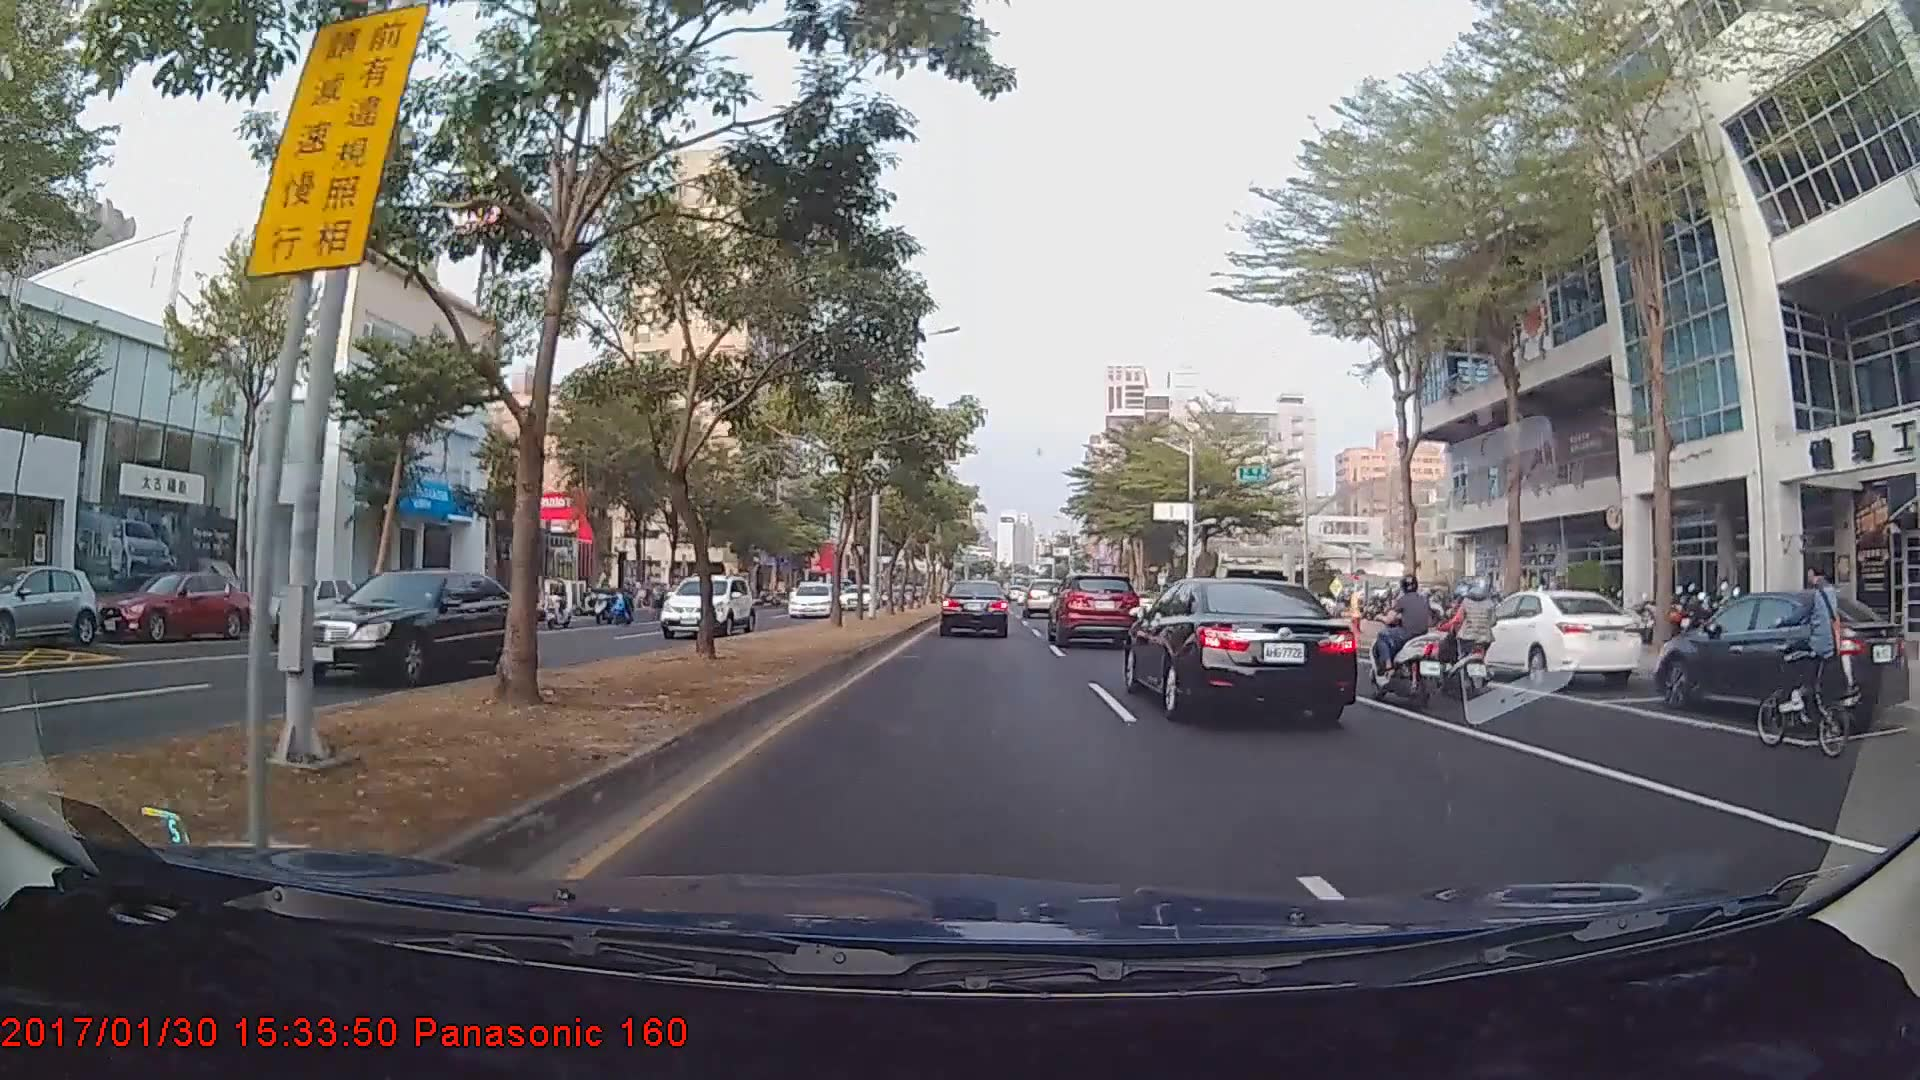rider: (1746, 566, 1871, 763), (1372, 572, 1459, 717), (1437, 578, 1504, 697), (265, 572, 323, 643)
vehicle: (1654, 587, 1909, 735), (1127, 571, 1357, 724), (283, 567, 536, 689), (1475, 585, 1639, 687), (76, 573, 252, 648), (0, 562, 100, 646), (247, 575, 371, 638), (1050, 571, 1138, 648), (658, 573, 757, 641), (939, 579, 1010, 638), (787, 579, 834, 619), (1023, 579, 1056, 616)
